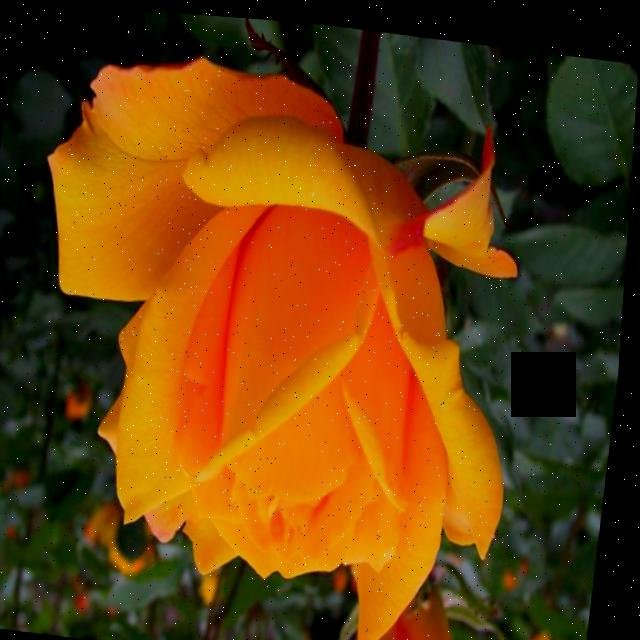rose: (6, 28, 556, 640)
